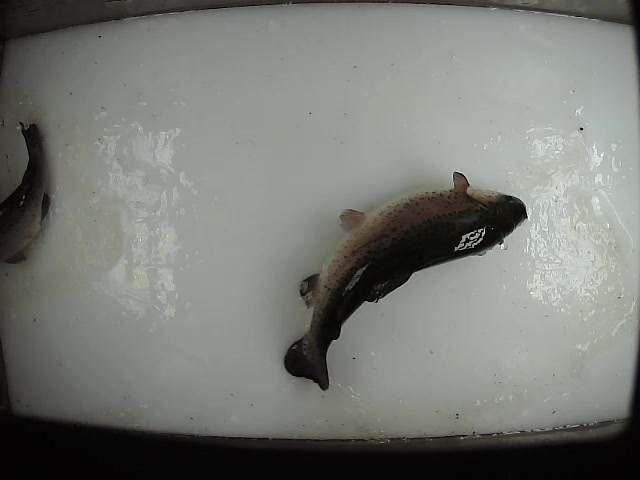fish: (282, 171, 528, 395), (1, 119, 53, 268)
